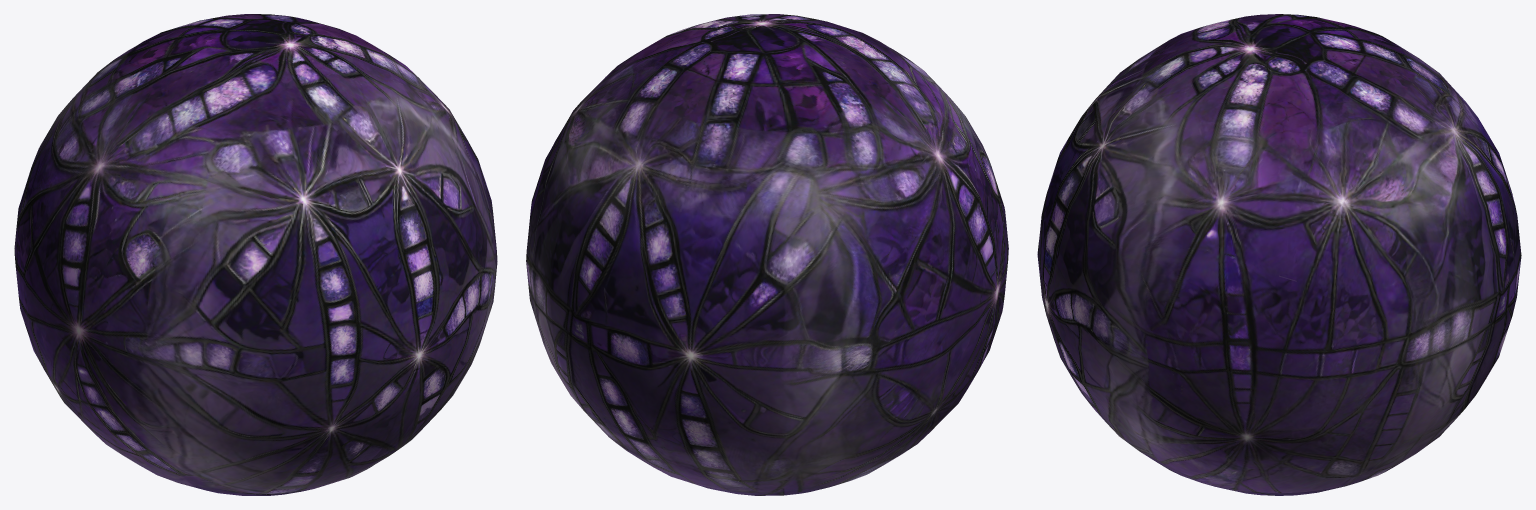
File: testSphereStarPurple.glb
The picture shows the model from 3 angles, left to right: view 1: azimuth 30°, elevation 25°; view 2: azimuth 150°, elevation 25°; view 3: azimuth 270°, elevation 25°; orthographic projection.
Parts seen in each view (by area): view 1: Mesh_0; view 2: Mesh_0; view 3: Mesh_0.
Part boxes in pixels (x1,y1,x2,y2): Mesh_0: (14, 14, 497, 495); Mesh_0: (526, 14, 1008, 495); Mesh_0: (1037, 14, 1521, 495).
Bounding box in the file's own units: 1 × 1 × 1.
Materials: 1 (1 with a texture image).
